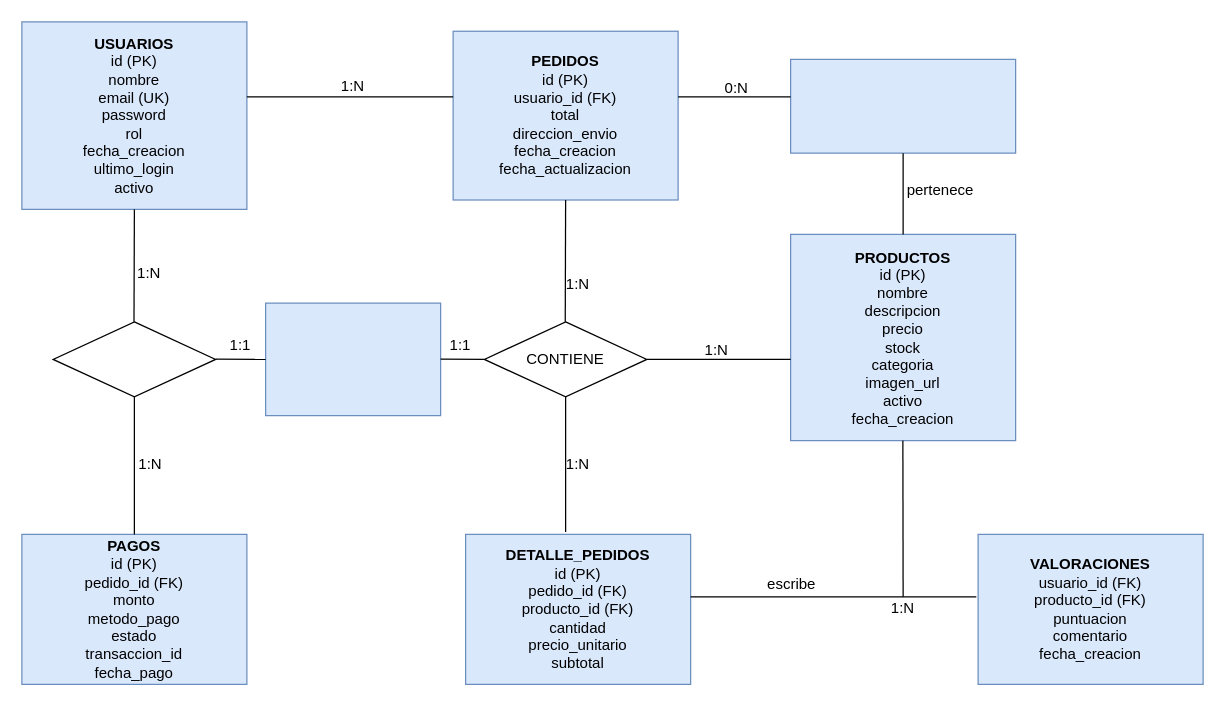
Image size: 1225x706. Some labels were removed from this diagram. Each missing label, with the centre of its shape:
CARRITO usuario_id (FK) producto_id (FK) cantidad fecha_agregado: (x=352, y=359)
CATEGORIAS id (PK) nombre descripcion: (x=902, y=105)
REALIZA: (x=134, y=359)
